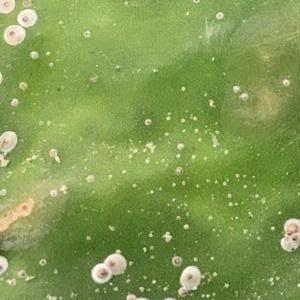Femea: (0, 130, 18, 151), (180, 267, 198, 287), (100, 260, 117, 281), (2, 26, 19, 43), (18, 8, 32, 24), (90, 271, 104, 287), (284, 220, 299, 234), (283, 241, 297, 252), (0, 0, 13, 10), (171, 257, 181, 267), (179, 287, 190, 296), (290, 234, 299, 243)
Linfa: (146, 190, 187, 197), (206, 134, 216, 151), (144, 140, 156, 153), (266, 275, 280, 286), (173, 202, 188, 211), (162, 231, 172, 243), (181, 223, 189, 231), (233, 85, 239, 94), (211, 271, 218, 278), (173, 214, 181, 220), (140, 246, 146, 253), (169, 196, 176, 202), (139, 286, 145, 292), (151, 279, 157, 285), (144, 158, 150, 164), (192, 256, 199, 261), (163, 286, 169, 291), (223, 149, 229, 154), (227, 201, 233, 206), (222, 180, 227, 186), (175, 153, 180, 158), (269, 225, 274, 230), (242, 183, 247, 188), (254, 192, 259, 197)
